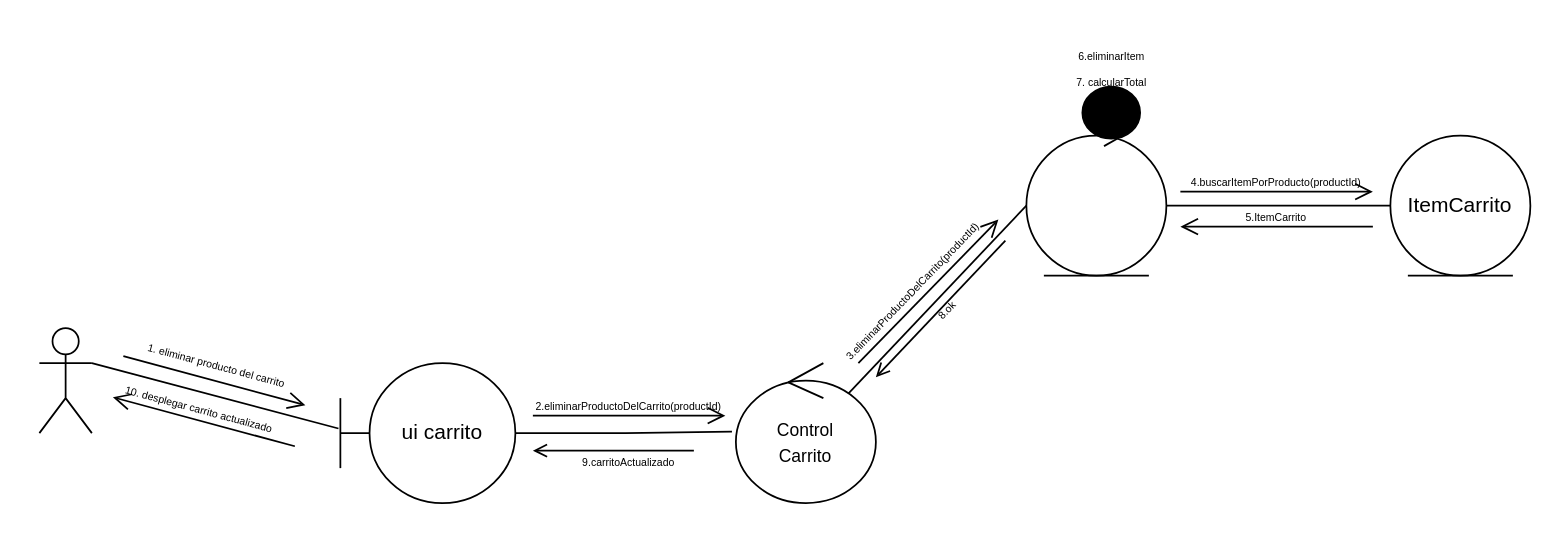
This 1561x534 diagram has some shape labels left out. Each missing label, with the box of its shape:
Carrito: (1025, 134, 1166, 276)
Cliente: (38, 326, 92, 433)
